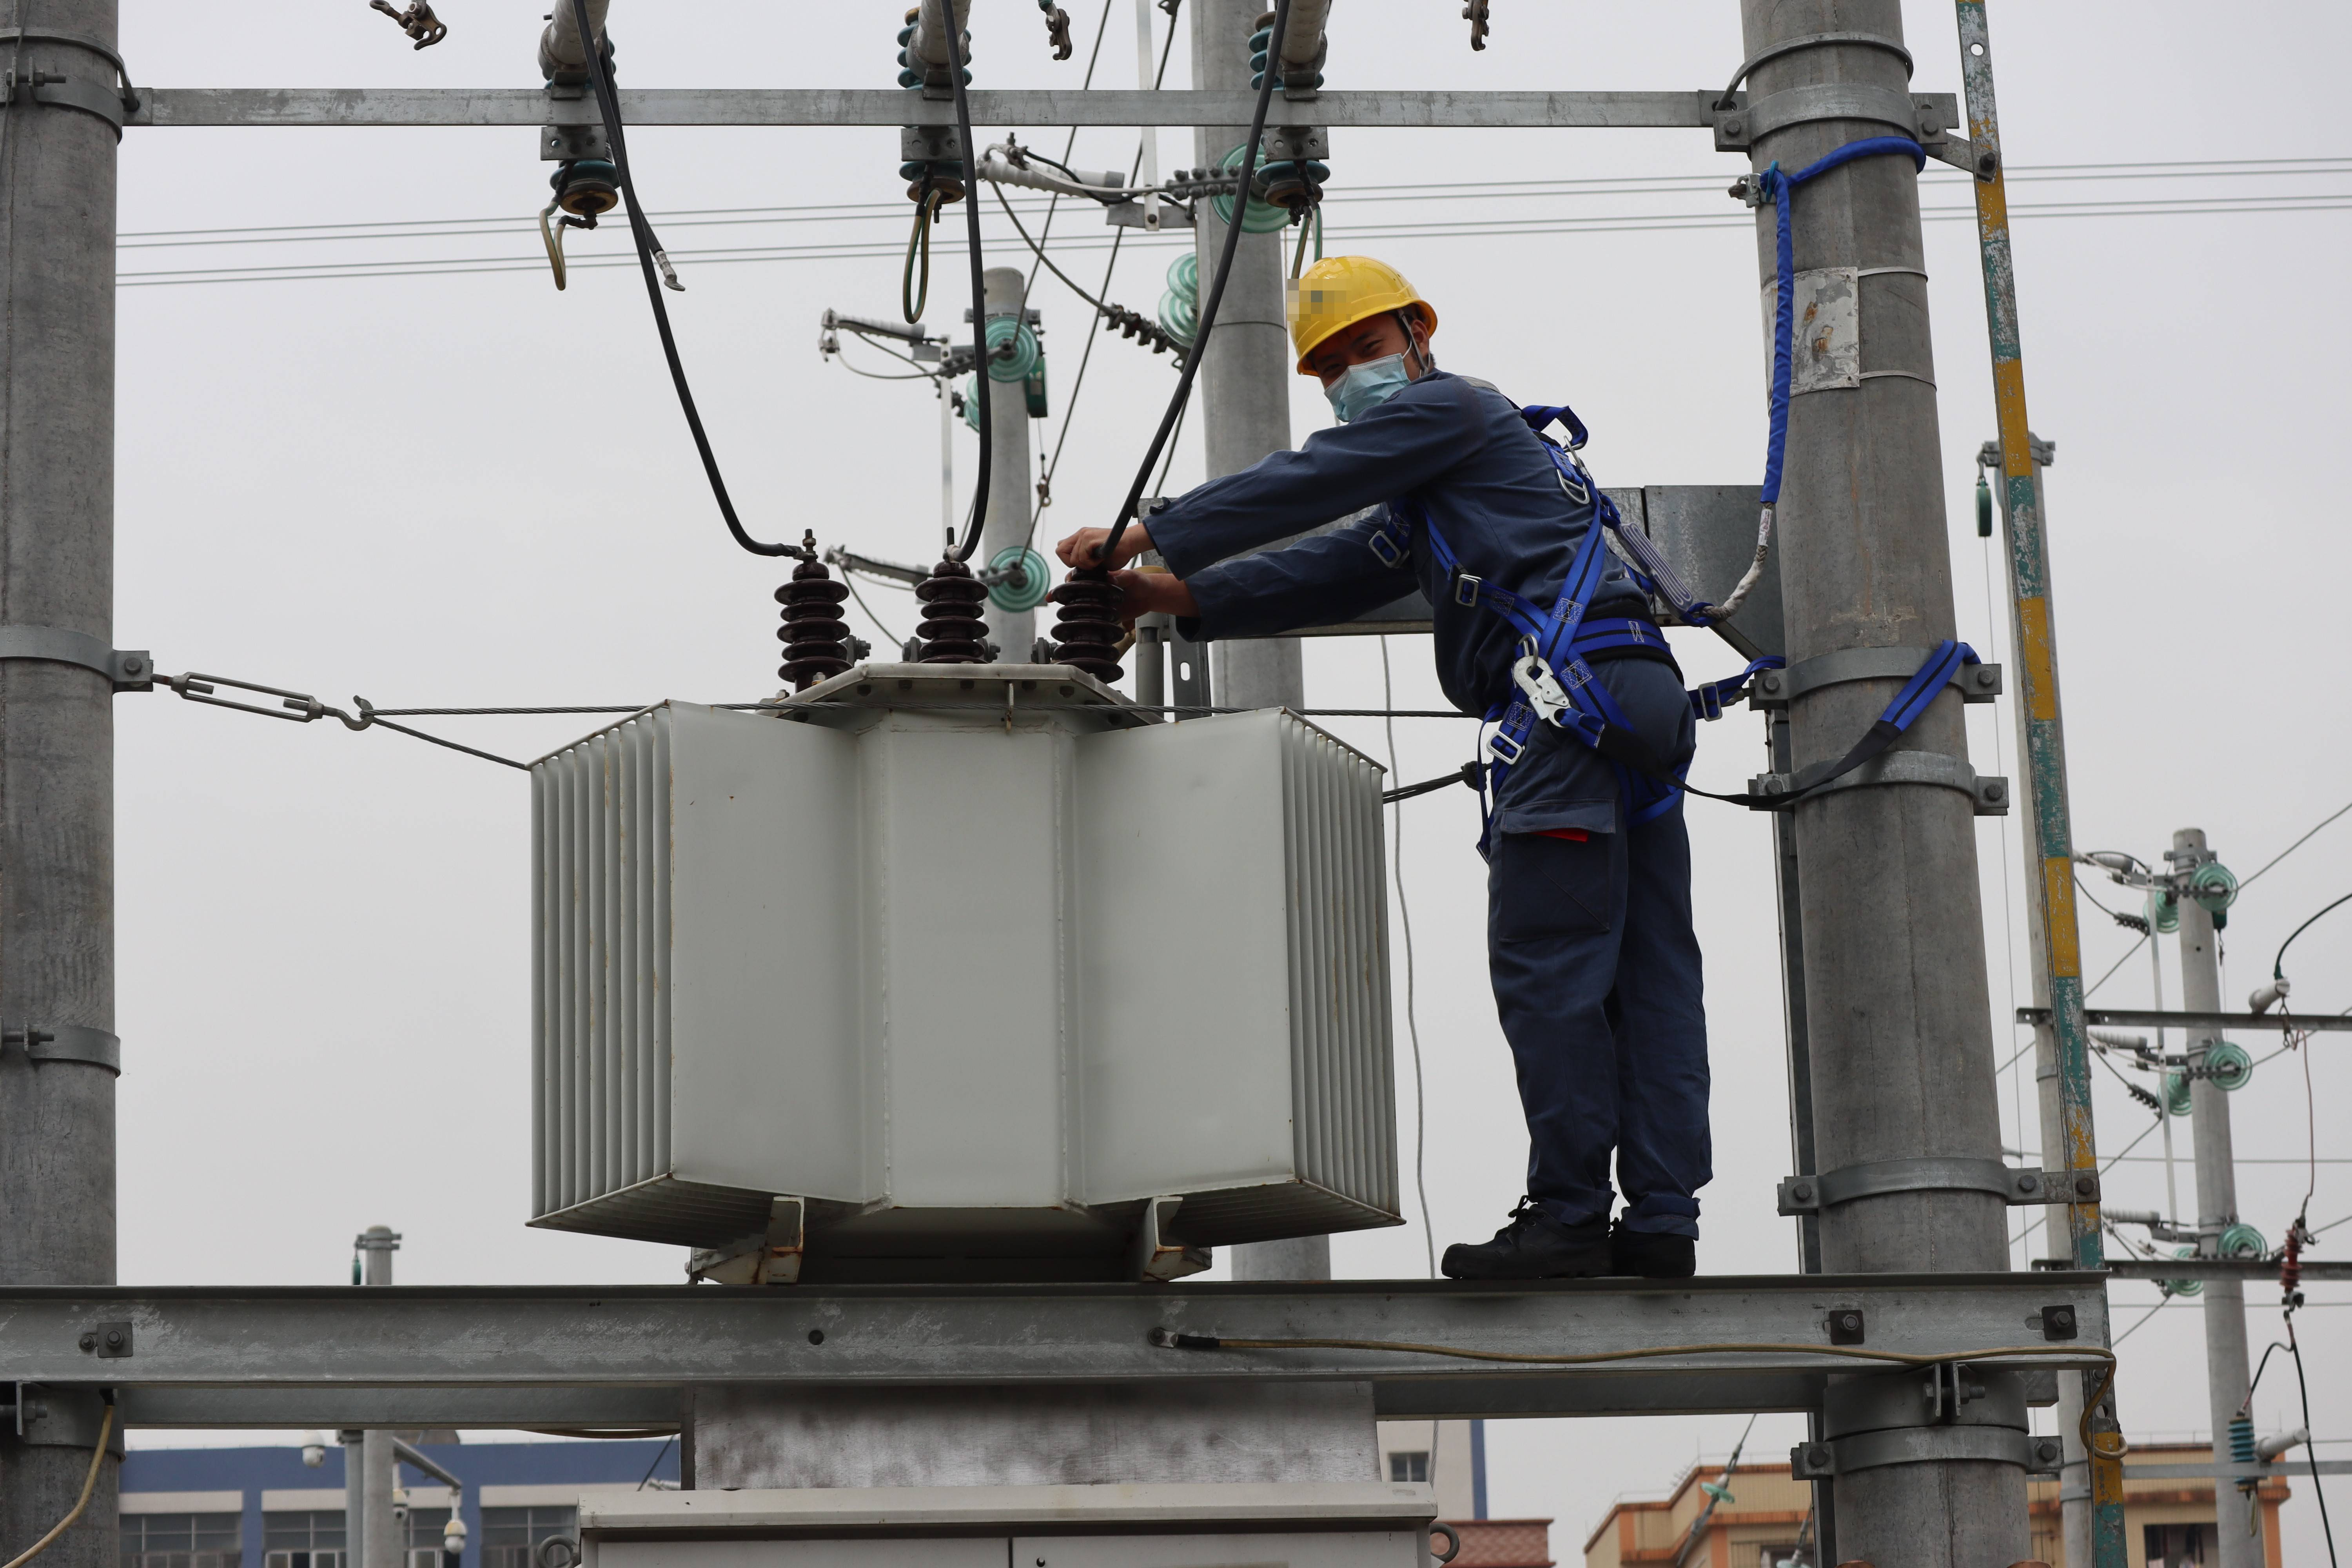downsuit: (1482, 677, 1720, 1218)
upsuit: (1137, 373, 1685, 674)
